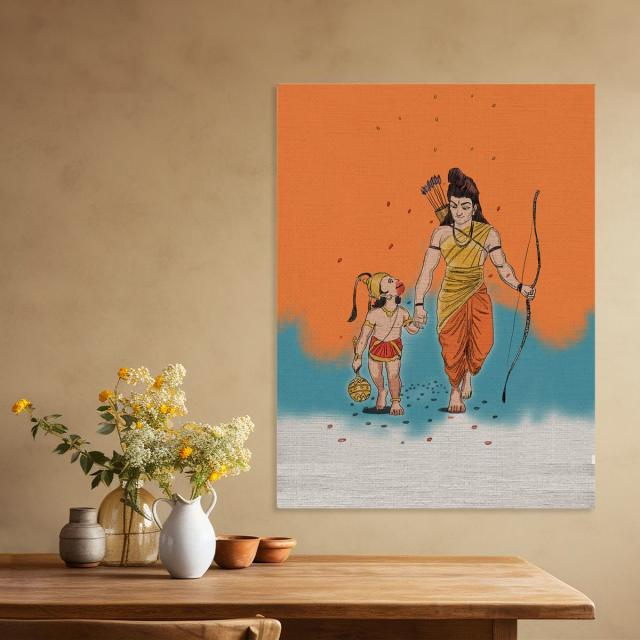painting: (277, 82, 597, 509)
